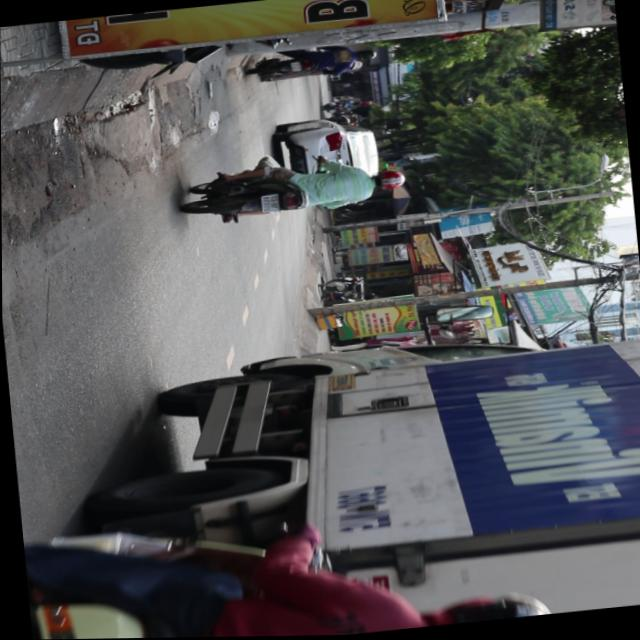helmet: (366, 170, 406, 194)
licenseplate: (176, 146, 409, 232)
nohelmet: (260, 194, 279, 213)
